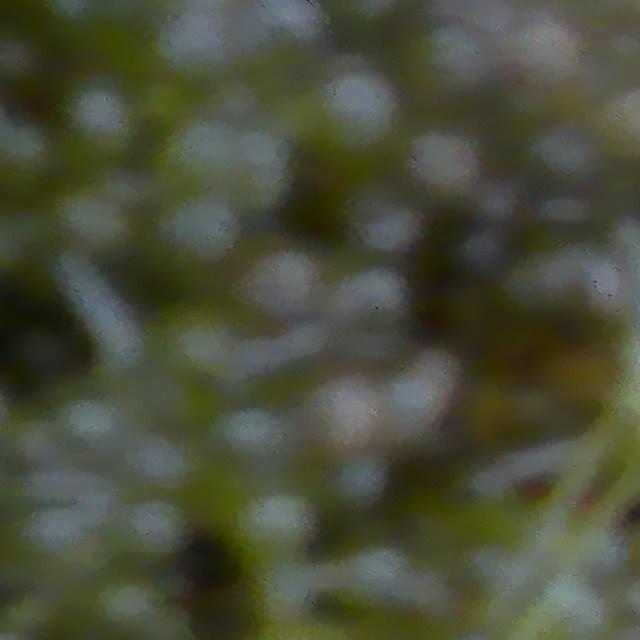SeaGrape: (161, 302, 249, 390), (317, 70, 400, 154), (413, 22, 496, 102), (308, 371, 388, 452), (160, 111, 243, 189), (241, 247, 323, 324), (161, 187, 240, 266), (55, 179, 136, 256), (405, 123, 484, 201), (236, 485, 315, 559), (65, 84, 141, 159), (125, 427, 205, 497), (351, 188, 424, 255), (118, 493, 188, 562), (253, 555, 321, 621), (58, 392, 129, 455)
